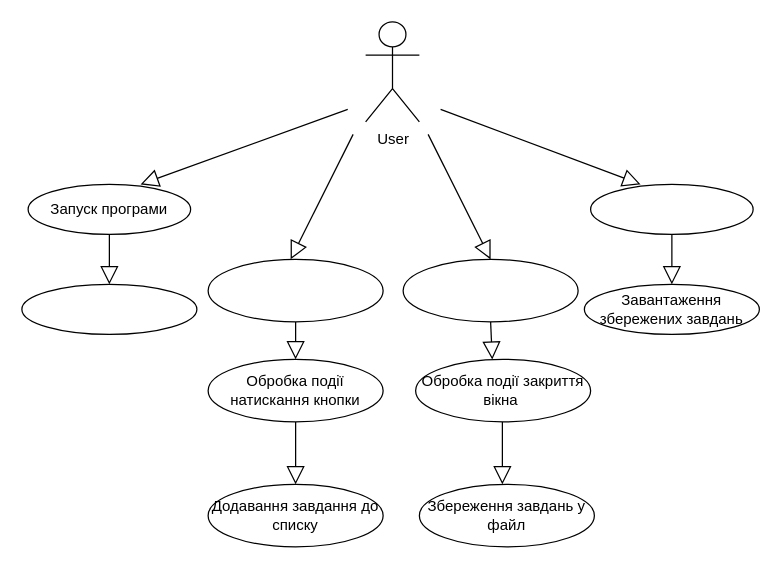
Image size: 781x569. Some labels were removed from this diagram. The centre of each missing label's shape, as x and y in pixels:
"Додавання завдань" belongs at (295,290).
"Завантаження завдань" belongs at (671,208).
"Збереження завдань" belongs at (490,290).
"Створення MainFrame" belongs at (109,308).
